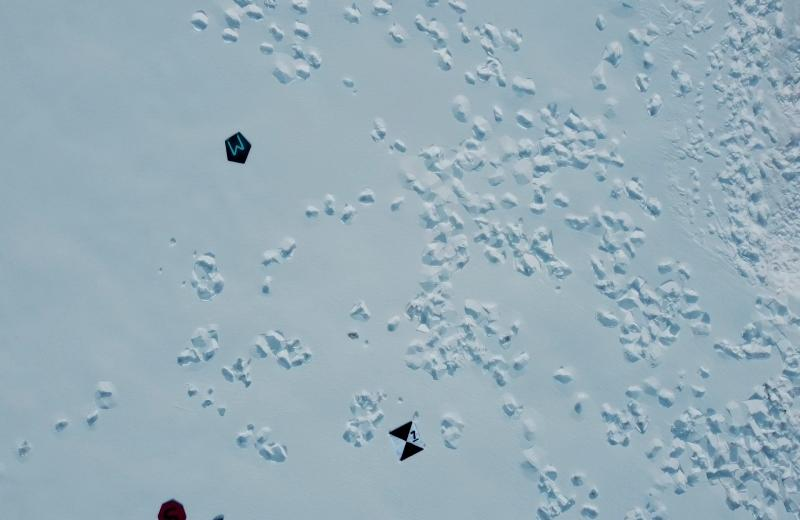Octagon: (156, 494, 190, 520)
Pentagon: (223, 128, 254, 171)
